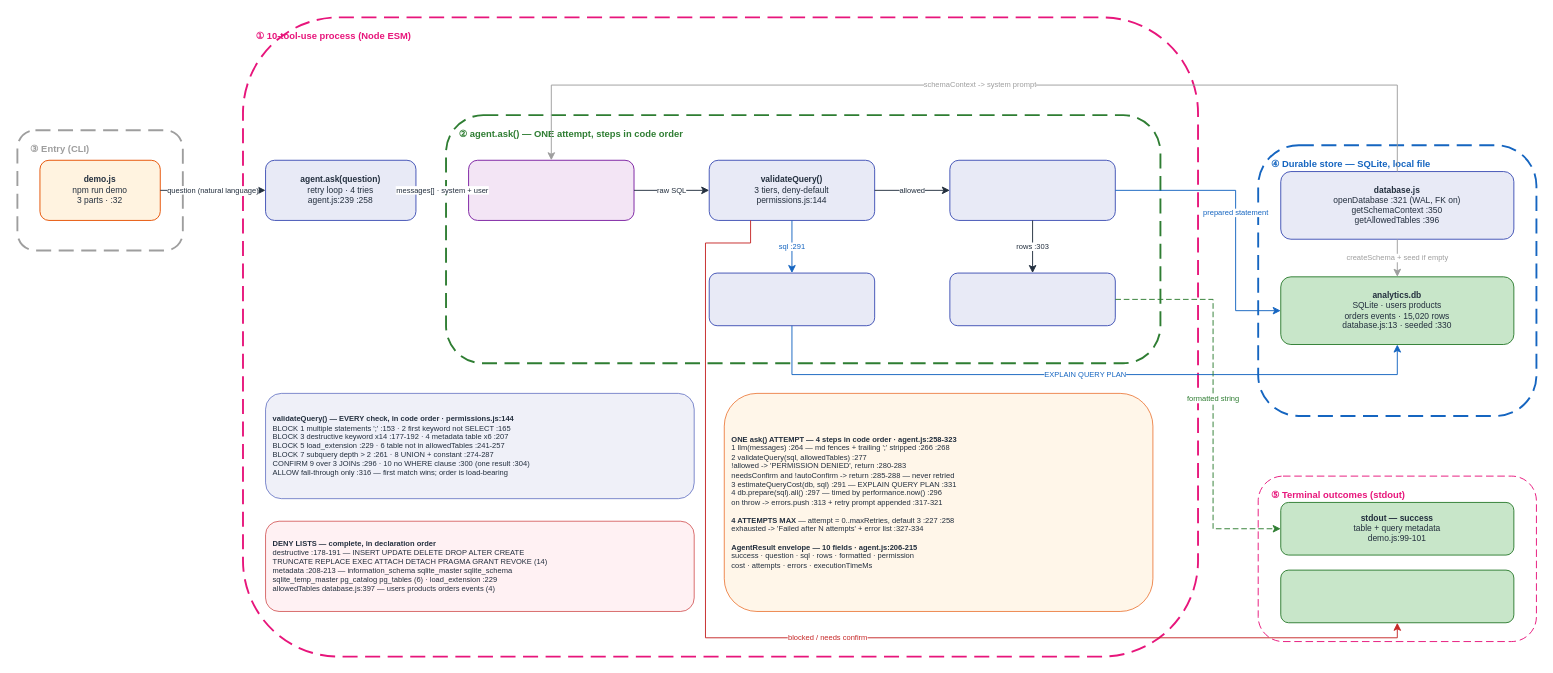
Some shapes in this 1553 by 673 pixel diagram are drawn without their labels. Here are the shapes that lost their labels. From the top down, the centre of each, then its label:
the point at 551,189: llm(messages) — mockLLM 19 patterns + default agent.js:62 · seam :223
the point at 1032,189: db.prepare(sql).all() better-sqlite3 · timed agent.js:297 :296
the point at 791,299: estimateQueryCost() EXPLAIN QUERY PLAN permissions.js:329
the point at 1032,299: formatResult(rows) table / scalar / meta formatter.js:116
the point at 1397,596: stdout — refusal PERMISSION DENIED :281 CONFIRMATION REQUIRED :286
